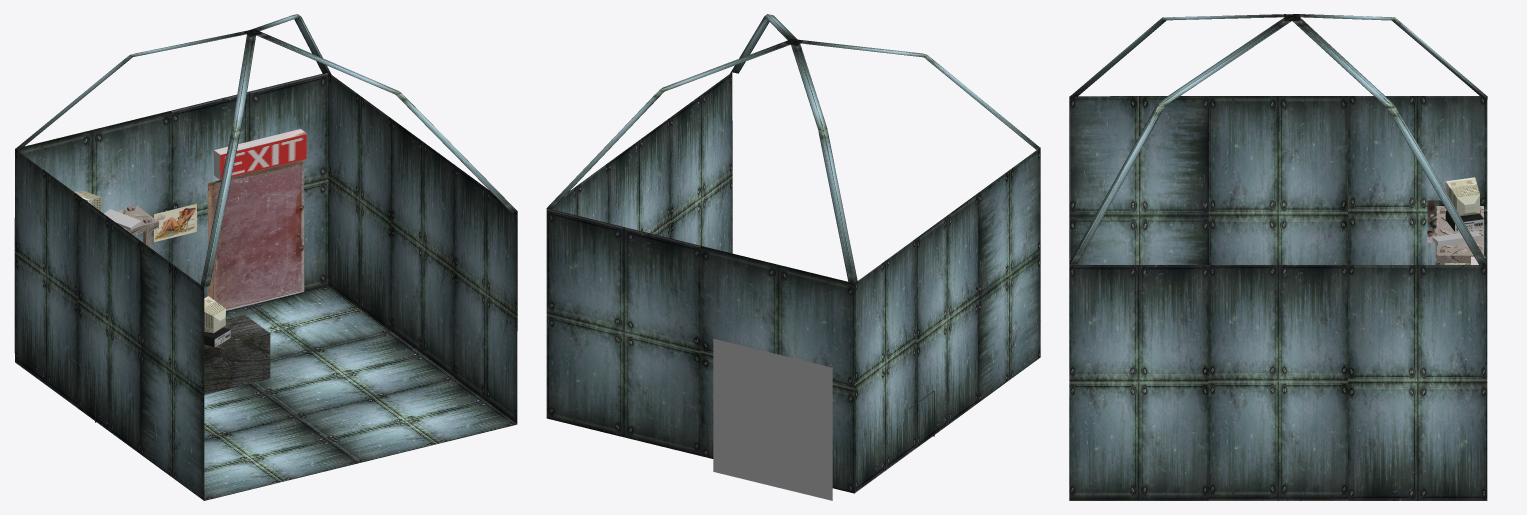
Rendered from SILICON_INTRO.fbx.
The picture shows the model from 3 angles, left to right: view 1: azimuth 30°, elevation 25°; view 2: azimuth 150°, elevation 25°; view 3: azimuth 270°, elevation 25°; orthographic projection. The views are drawn at different scales.
Parts seen in each view (by area): view 1: Plane, Plane.003, Plane.002, Cube, Plane.005, Cube.004, Cube.001; view 2: Plane, Plane.001; view 3: Plane, Cube.004, Cube.011.
Boxes of the visible parts, x1,y1,x2,y2 form: Plane: (15,14,517,500); Plane.003: (207,159,304,310); Plane.002: (70,314,270,422); Cube: (214,129,306,179); Plane.005: (154,204,196,241); Cube.004: (116,206,158,248); Cube.001: (204,296,225,333); Plane: (546,14,1040,493); Plane.001: (713,338,832,500); Plane: (1069,14,1487,500); Cube.004: (1436,206,1483,264); Cube.011: (1445,177,1479,216).
Bounding box in the file's own units: 2607 × 2851 × 2884.
